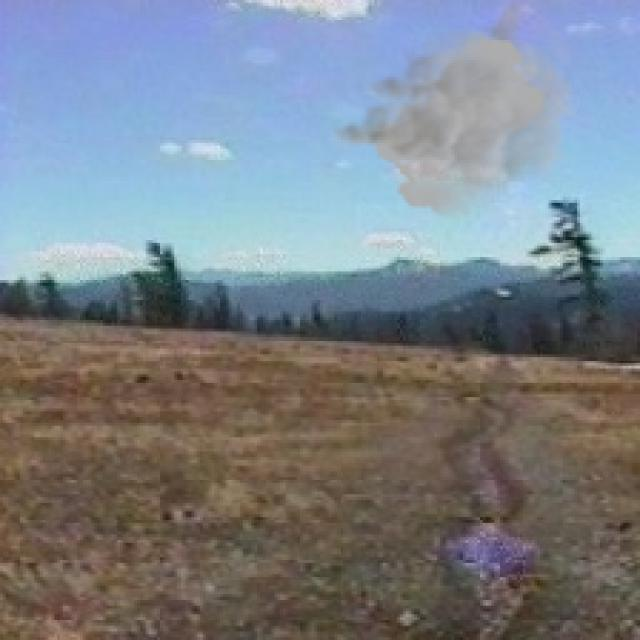Smoke: (326, 0, 580, 220)
